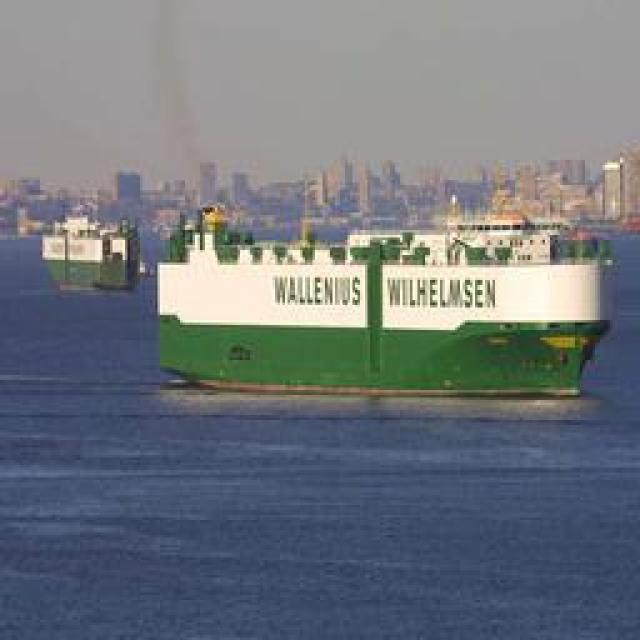ship2: (156, 204, 617, 399)
